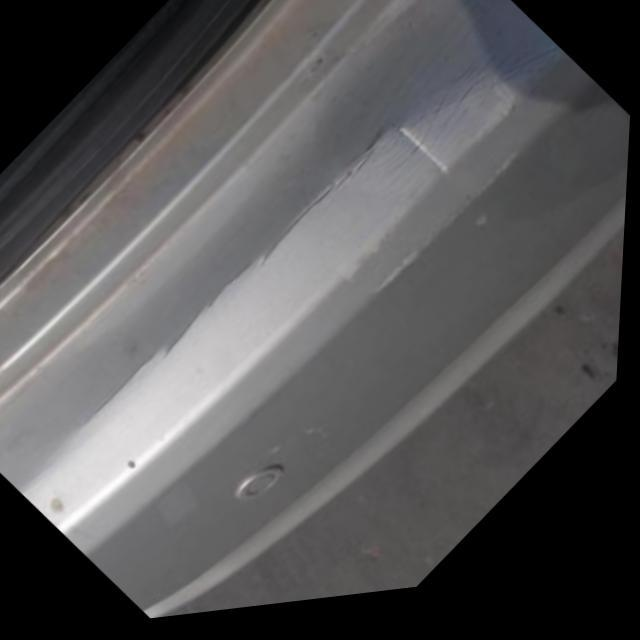dent: (56, 8, 567, 441)
